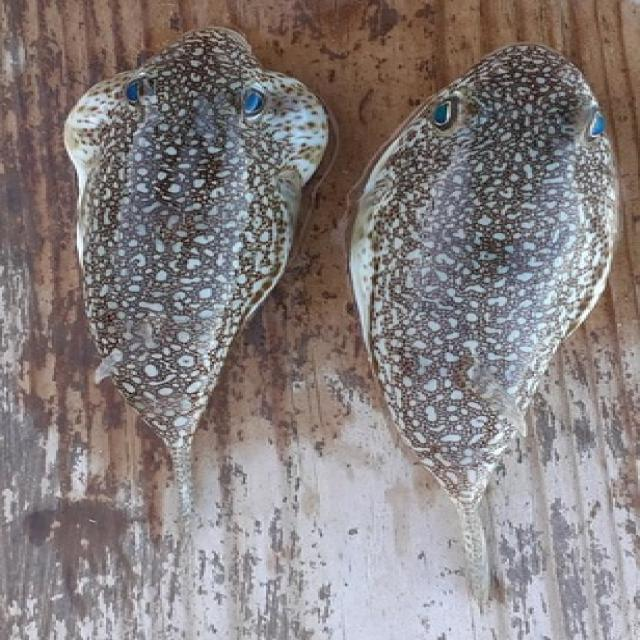Balik: (352, 44, 617, 601), (65, 29, 328, 513)
